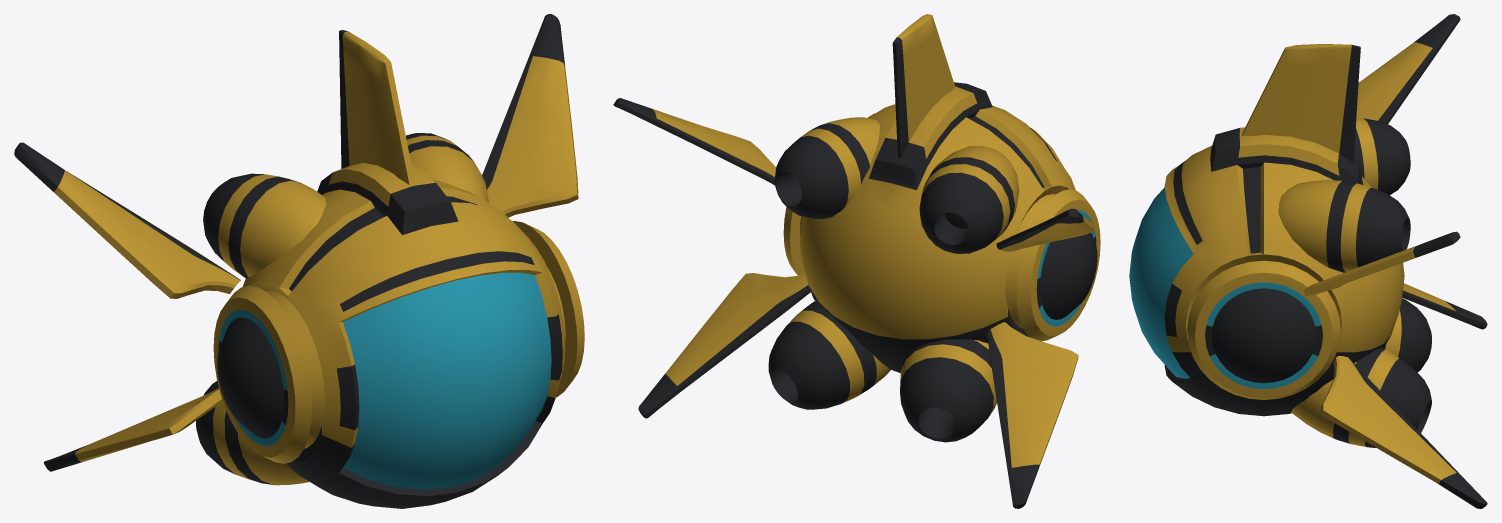
The model's file is Spaceship.glb.
3 views of the same model, side by side, from view 1: azimuth 30°, elevation 25°; view 2: azimuth 150°, elevation 25°; view 3: azimuth 270°, elevation 25° (orthographic). The views are drawn at different scales.
Visible parts, largest first — view 1: Spaceship_BarbaraTheBee; view 2: Spaceship_BarbaraTheBee; view 3: Spaceship_BarbaraTheBee.
Part boxes in pixels (box(x1,y1,x2,y2)): Spaceship_BarbaraTheBee: box(14, 14, 584, 508); Spaceship_BarbaraTheBee: box(613, 14, 1100, 508); Spaceship_BarbaraTheBee: box(1129, 14, 1487, 508).
Bounding box in the file's own units: 7.34 × 5.7 × 4.96.
1 material, 1 textured.
